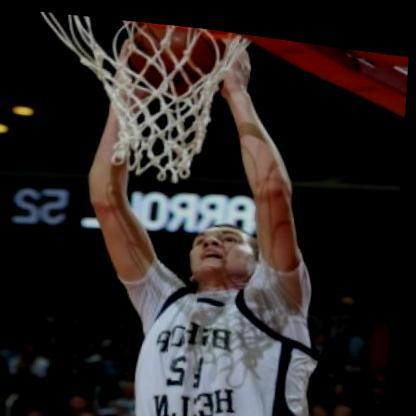basketball: (122, 14, 232, 97)
